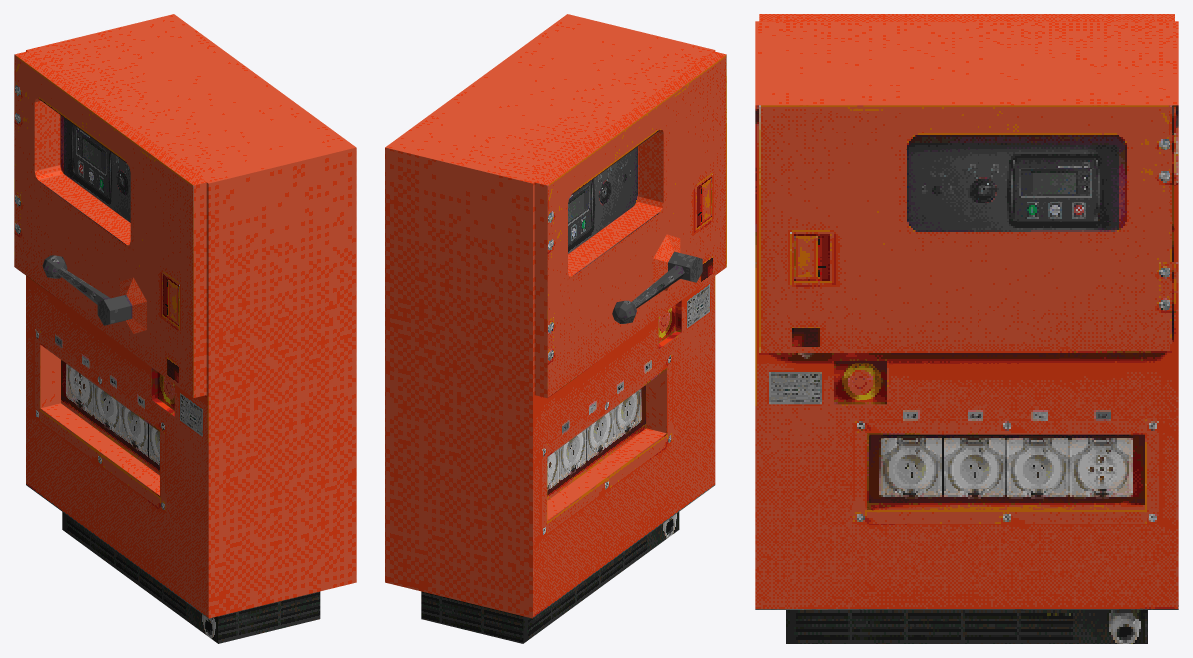
The model's file is Generator.glb.
3 views of the same model, side by side, from view 1: azimuth 30°, elevation 25°; view 2: azimuth 150°, elevation 25°; view 3: azimuth 270°, elevation 25° (orthographic). The views are drawn at different scales.
Visible parts, largest first — view 1: Cube.059, Sphere.003, Sphere.002; view 2: Cube.059, Sphere.003, Sphere.002; view 3: Cube.059.
Boxes of the visible parts, left/top/right/bottom form: Cube.059: left=14, top=14, right=356, bottom=643; Sphere.003: left=42, top=255, right=132, bottom=325; Sphere.002: left=120, top=277, right=146, bottom=333; Cube.059: left=385, top=14, right=726, bottom=643; Sphere.003: left=612, top=251, right=702, bottom=323; Sphere.002: left=653, top=234, right=680, bottom=290; Cube.059: left=755, top=14, right=1178, bottom=643.
Bounding box in the file's own units: 0.5778 × 1.38 × 0.9568.
Materials: 1 (1 with a texture image).
